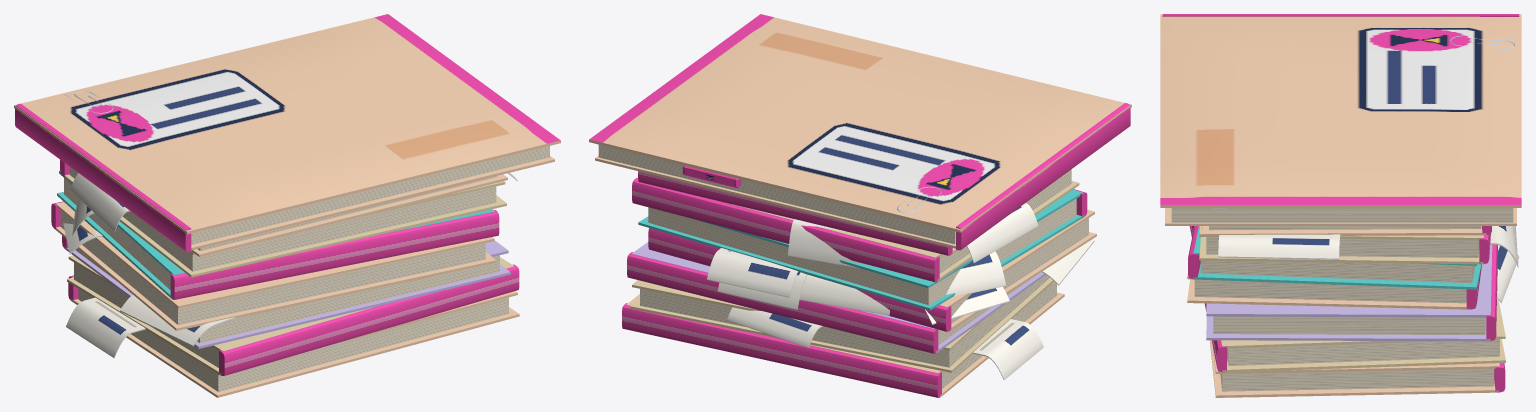
Rendered from bureau_loose_files.glb.
The picture shows the model from 3 angles, left to right: view 1: azimuth 30°, elevation 25°; view 2: azimuth 150°, elevation 25°; view 3: azimuth 270°, elevation 25°; orthographic projection. The views are drawn at different scales.
Parts seen in each view (by area): view 1: bureau_loose_files; view 2: bureau_loose_files; view 3: bureau_loose_files.
Boxes of the visible parts, x1=… form: bureau_loose_files: x1=14, y1=14, x2=560, y2=397; bureau_loose_files: x1=589, y1=14, x2=1131, y2=397; bureau_loose_files: x1=1160, y1=14, x2=1521, y2=397.
Size of the model in its own units: 10 by 5 by 8.
Materials: 1 (1 with a texture image).
